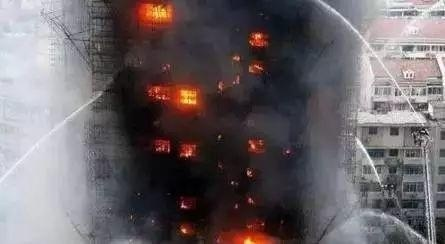fire: (147, 80, 203, 103), (140, 1, 172, 21), (247, 29, 267, 47), (179, 142, 194, 157), (154, 137, 170, 151), (247, 137, 262, 150), (249, 60, 264, 72)
